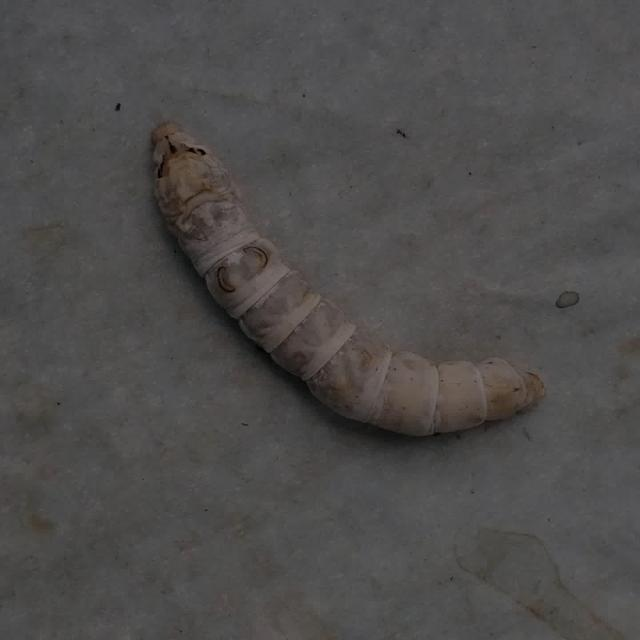Grasserie: (141, 114, 557, 447)
